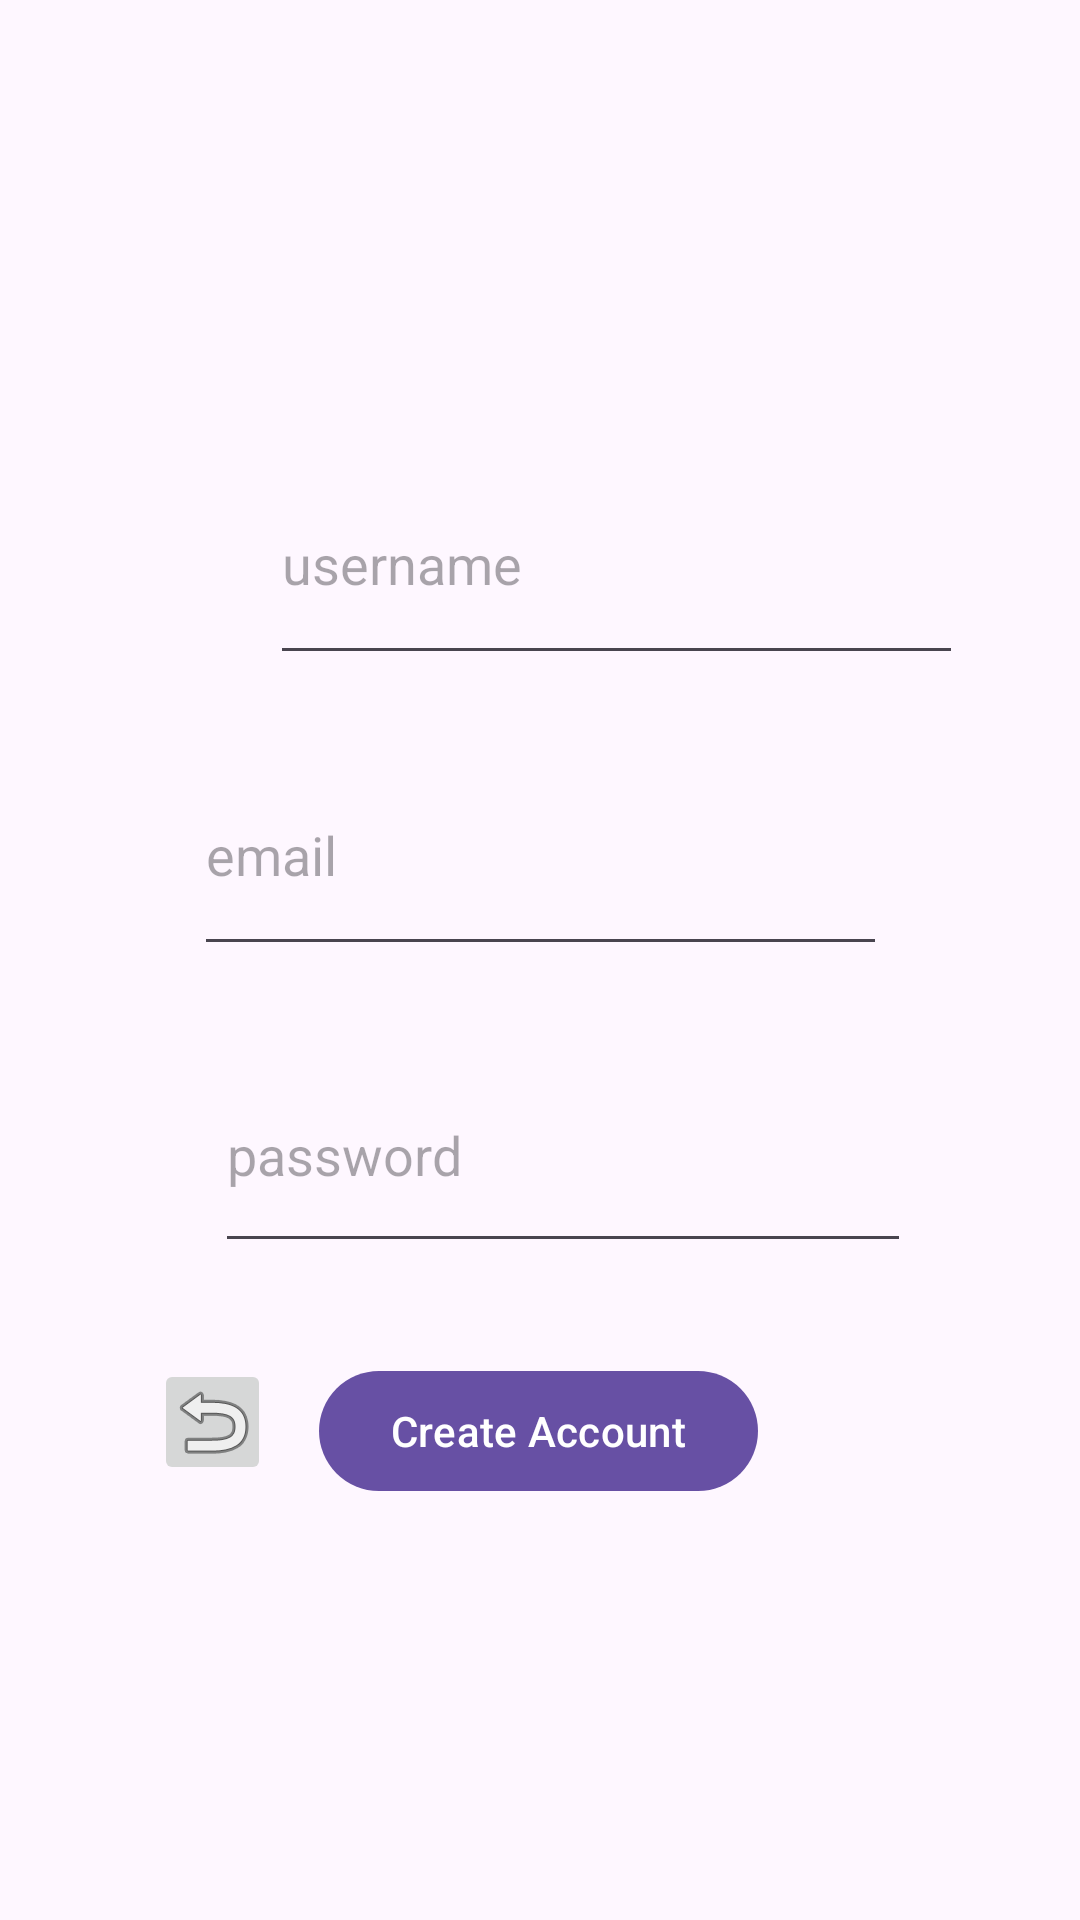

Named icons in this screenshot (1080*1920) and their centers, (x,y):
revert: (212,1422)
